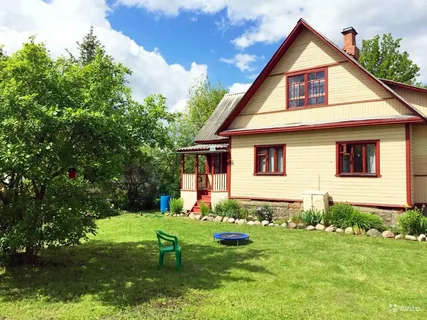private_hause: (209, 83, 410, 208)
